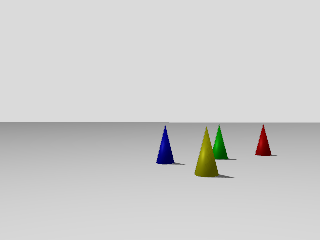blue: (156, 124, 174, 165)
green: (212, 124, 229, 161)
red: (252, 124, 273, 156)
yellow: (192, 126, 219, 178)
